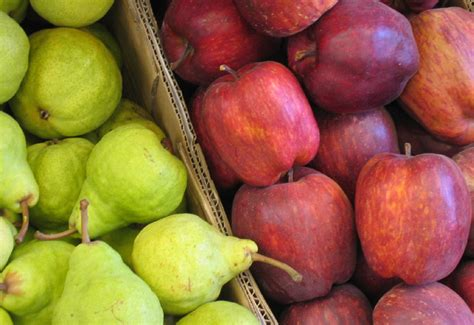apple: (230, 165, 357, 300), (352, 148, 472, 290), (280, 1, 424, 117), (201, 57, 322, 189), (152, 1, 262, 89)
